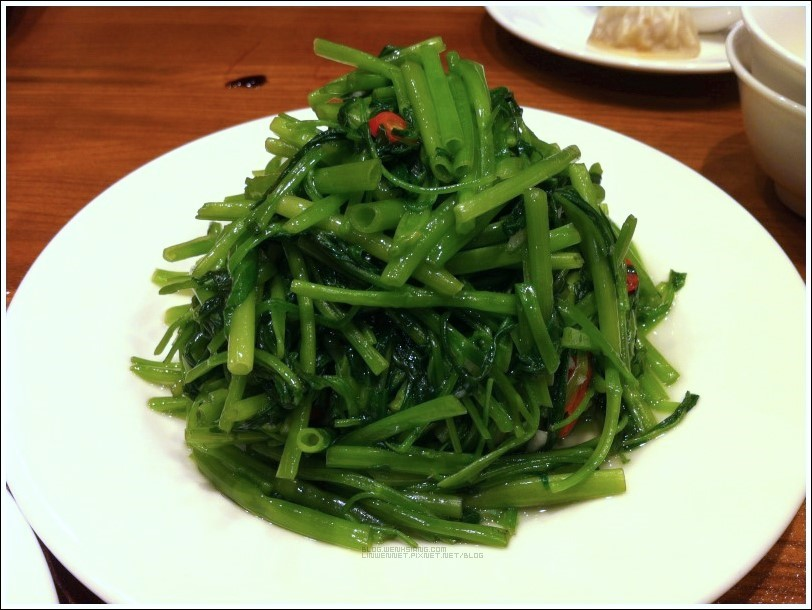water_spinach: (150, 46, 649, 536)
